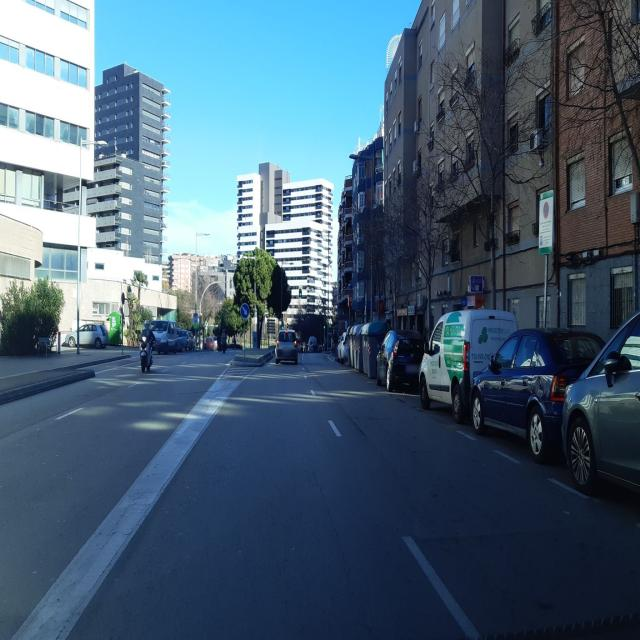forb_stopping: (543, 201, 549, 220)
